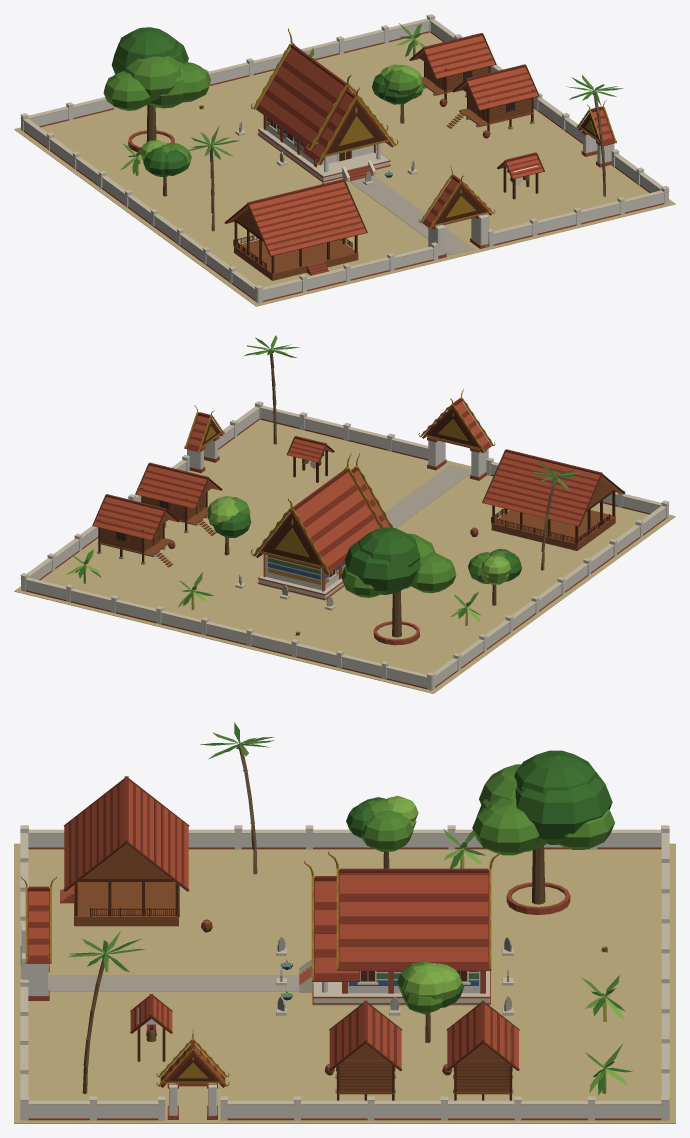
The model's file is temple_1.glb.
3 renders of one model, top to bottom at view 1: azimuth 30°, elevation 25°; view 2: azimuth 150°, elevation 25°; view 3: azimuth 270°, elevation 25°, orthographic. The views are drawn at different scales.
Parts seen in each view (by area): view 1: body; view 2: body; view 3: body.
Part boxes in pixels (x1,y1,x2,y2): body: [14, 14, 675, 306]; body: [14, 335, 675, 693]; body: [14, 722, 675, 1123].
Bounding box in the file's own units: 47.9 × 12.05 × 47.9.
